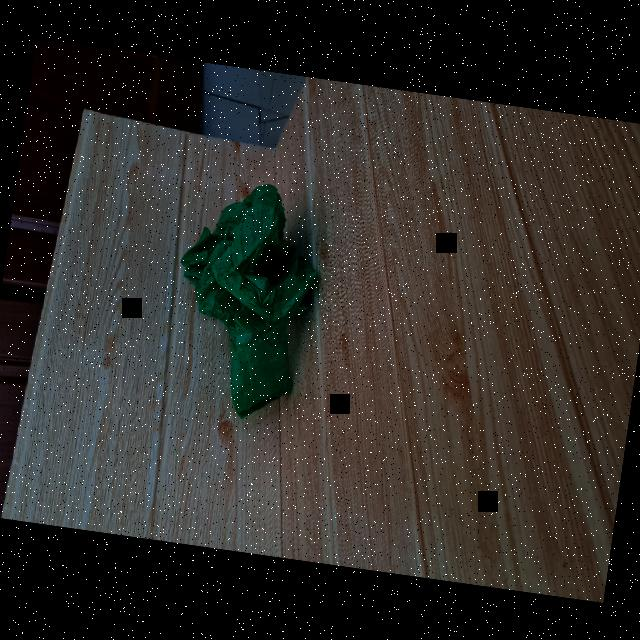plastic_bag: (164, 174, 337, 432)
